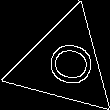O_W: (33, 36, 94, 91)
